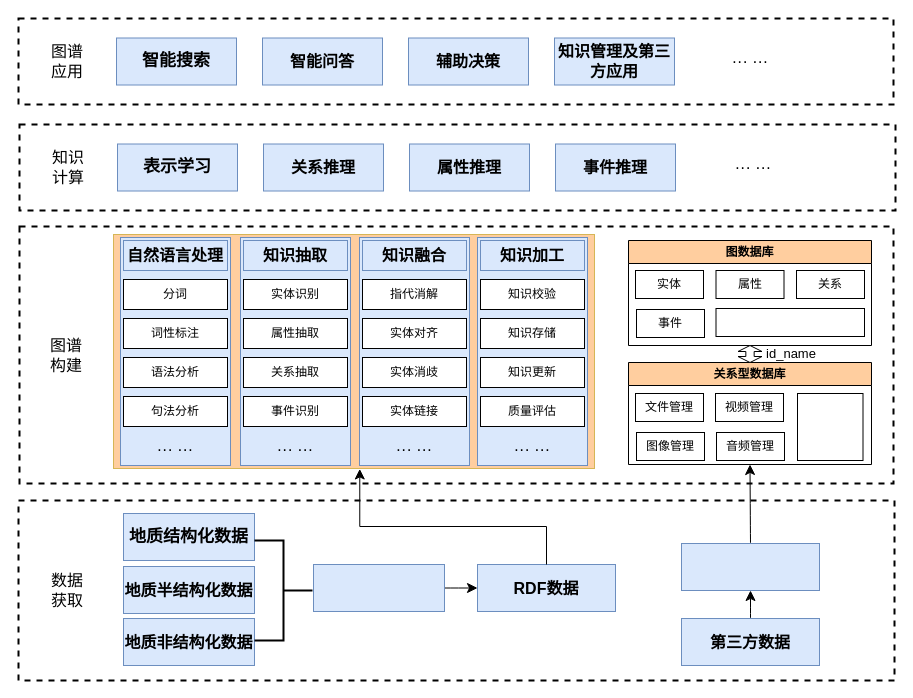
Image size: 913x698. Some labels were removed from this diagram. Here are the shapes that lost their labels. From the top down, the centre of each, then its label:
At pixel 789 322: "多对多关系管理".
At pixel 829 426: "一对多 关系管理".
At pixel 750 566: "合作数据解析".
At pixel 378 588: "结构化数据JSON格式".
